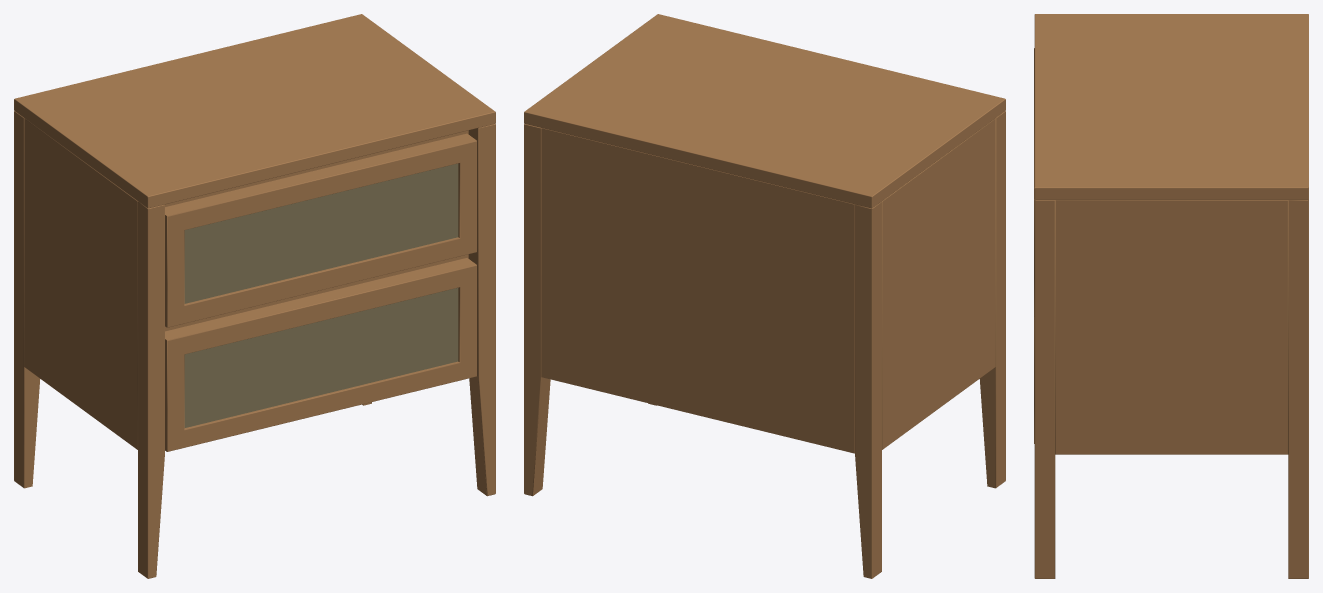
File: mesa-de-cabeceira-riesling.glb
The picture shows the model from 3 angles, left to right: view 1: azimuth 30°, elevation 25°; view 2: azimuth 150°, elevation 25°; view 3: azimuth 270°, elevation 25°; orthographic projection. The views are drawn at different scales.
Bounding box in the file's own units: 0.6 × 0.63 × 0.401.
